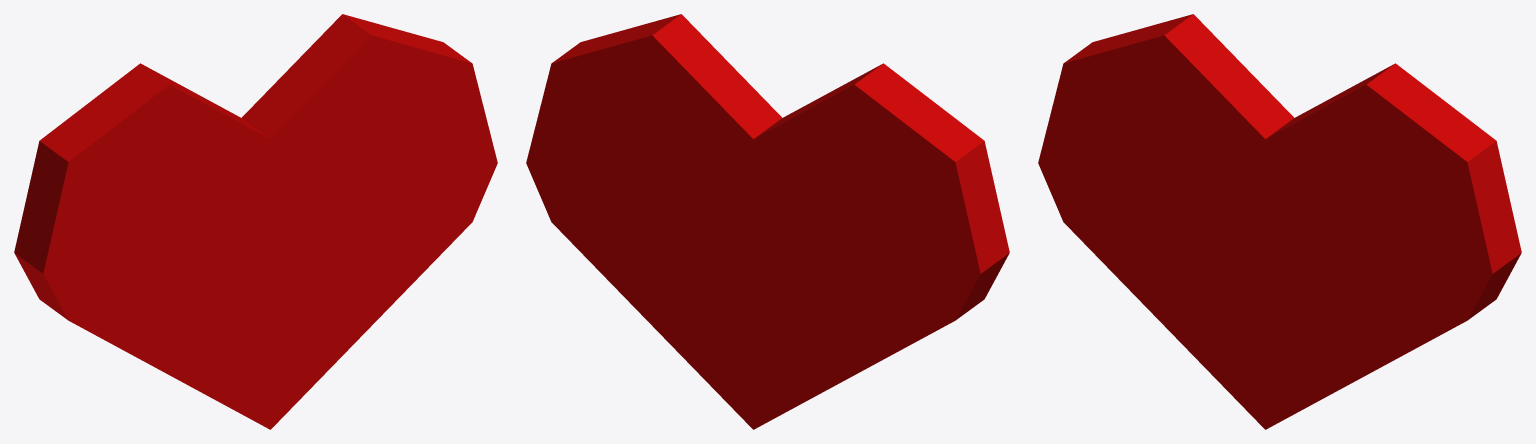
The model's file is Heart.gltf.
3 views of the same model, side by side, from view 1: azimuth 30°, elevation 25°; view 2: azimuth 150°, elevation 25°; view 3: azimuth 330°, elevation 25° (orthographic).
Visible parts, largest first — view 1: mesh; view 2: mesh; view 3: mesh.
Part boxes in pixels (x1=…): mesh: x1=14, y1=14, x2=497, y2=429; mesh: x1=526, y1=14, x2=1009, y2=429; mesh: x1=1038, y1=14, x2=1521, y2=429.
Bounding box in the file's own units: 1.12 × 0.875 × 0.125.
1 material, 1 textured.
